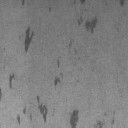red iron: (16, 96, 48, 125), (70, 110, 114, 128), (78, 0, 98, 34), (24, 26, 34, 52), (9, 73, 15, 89), (54, 77, 60, 86), (68, 40, 72, 48), (120, 0, 124, 6), (57, 60, 60, 67)
